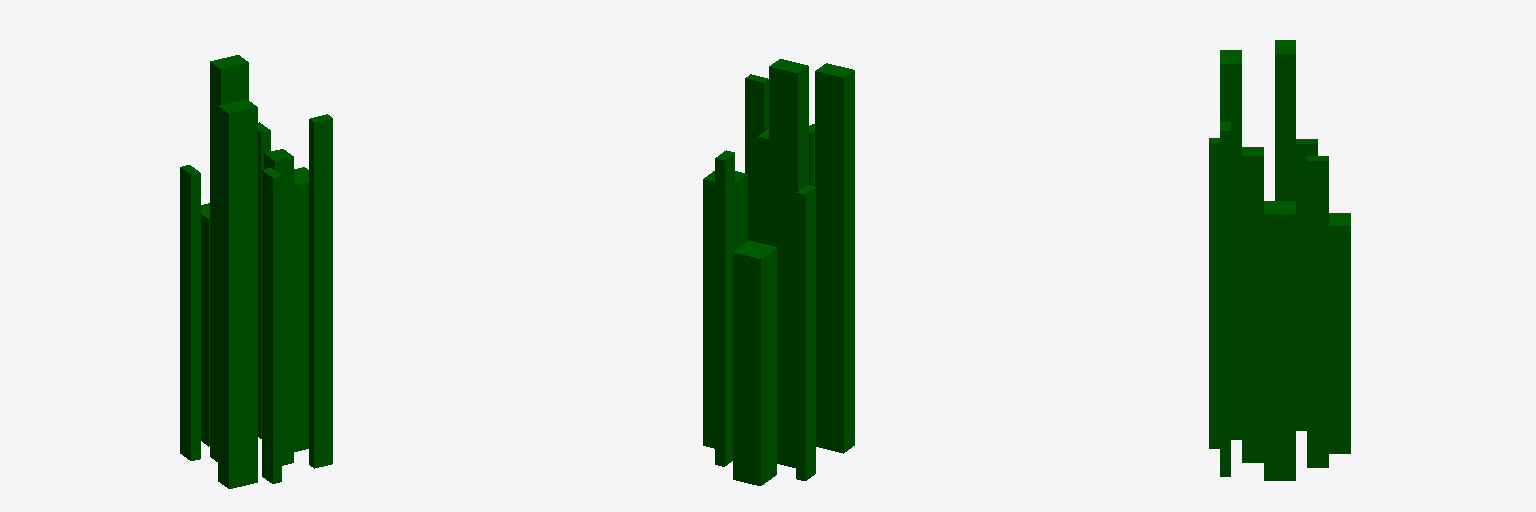
3 views of the same model, side by side, from view 1: azimuth 30°, elevation 25°; view 2: azimuth 150°, elevation 25°; view 3: azimuth 270°, elevation 25° (orthographic).
Parts seen in each view (by area): view 1: object 1; view 2: object 1; view 3: object 1.
Part boxes in pixels (x1,y1,x2,y2): object 1: (180,55,332,488); object 1: (703,59,854,485); object 1: (1209,40,1350,480).
Size of the model in its own units: 1.2 by 4 by 1.3.
Materials: 1 (1 with a texture image).